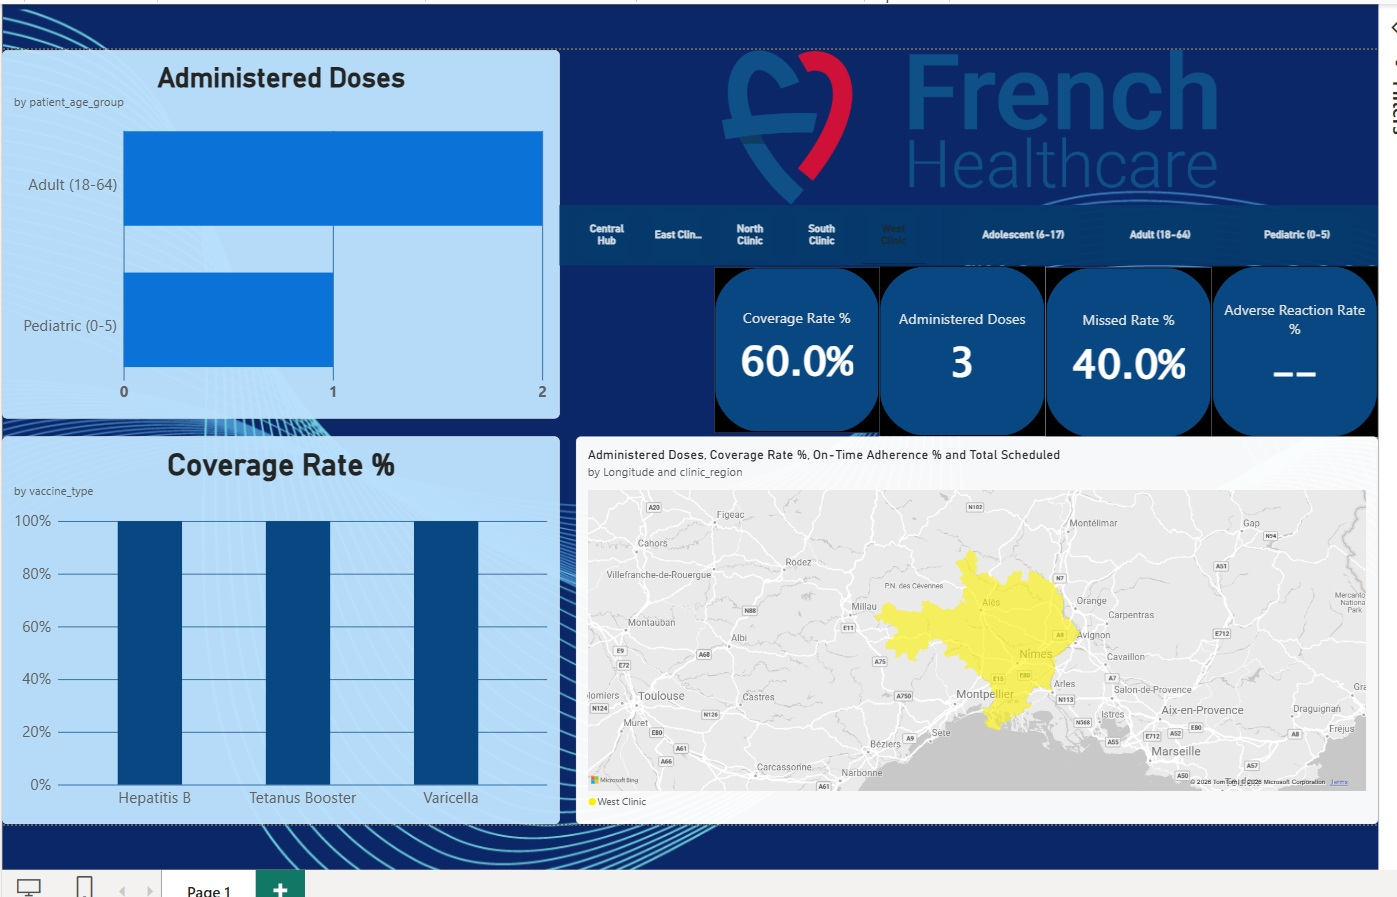

This screenshot's page, from the dashboard's own definition file:
{"tool":"powerbi","page":{"name":"Page 1","canvas":[1920,1080],"ordinal":0},"visuals":[{"type":"cardVisual","fields":{"Data":["_Measures.Coverage Rate %"]},"box":[994.2,303.5,230.2,230.2],"z":0},{"type":"cardVisual","fields":{"Data":["_Measures.Administered Doses"]},"box":[1224.4,301.7,232,237.2],"z":1},{"type":"cardVisual","fields":{"Data":["_Measures.Missed Rate %"]},"box":[1456.4,303.5,232,237.2],"z":2},{"type":"cardVisual","fields":{"Data":["_Measures.Adverse Reaction Rate %"]},"box":[1688.4,301.7,232,239],"z":3},{"type":"clusteredBarChart","fields":{"Category":["Fact_Vaccinations.patient_age_group"],"Y":["_Measures.Administered Doses"]},"box":[0,0,778,514.6],"z":4},{"type":"clusteredColumnChart","fields":{"Category":["Fact_Vaccinations.vaccine_type"],"Y":["_Measures.Coverage Rate %"]},"box":[0,539.3,778,541.3],"z":5},{"type":"filledMap","fields":{"Category":["Dim_Clinics.Longitude","Dim_Clinics.Latitude"],"Series":["Dim_Clinics.clinic_region"]},"box":[800.7,539.3,1119.7,541.3],"z":6},{"type":"advancedSlicerVisual","fields":{"Values":["Dim_Clinics.clinic_region"]},"box":[777.9,216.3,535.5,83.7],"z":7},{"type":"advancedSlicerVisual","fields":{"Values":["Fact_Vaccinations.patient_age_group"]},"box":[1313.4,216.3,607,83.7],"z":8},{"type":"image","box":[777.9,0,1142.4,216.3],"z":9}]}

Visuals, with their boxes in screenshot pixels (x1, y1, x2, y2):
cardVisual - _Measures.Coverage Rate %: {"left": 710, "top": 265, "right": 875, "bottom": 430}
cardVisual - _Measures.Administered Doses: {"left": 875, "top": 264, "right": 1041, "bottom": 434}
cardVisual - _Measures.Missed Rate %: {"left": 1041, "top": 265, "right": 1208, "bottom": 435}
cardVisual - _Measures.Adverse Reaction Rate %: {"left": 1208, "top": 264, "right": 1374, "bottom": 435}
clusteredBarChart - Fact_Vaccinations.patient_age_group x _Measures.Administered Doses: {"left": 0, "top": 47, "right": 555, "bottom": 417}
clusteredColumnChart - Fact_Vaccinations.vaccine_type x _Measures.Coverage Rate %: {"left": 0, "top": 434, "right": 555, "bottom": 823}
filledMap - Dim_Clinics.Longitude x Dim_Clinics.Latitude: {"left": 571, "top": 434, "right": 1374, "bottom": 823}
advancedSlicerVisual - Dim_Clinics.clinic_region: {"left": 555, "top": 202, "right": 939, "bottom": 263}
advancedSlicerVisual - Fact_Vaccinations.patient_age_group: {"left": 939, "top": 202, "right": 1374, "bottom": 263}
image: {"left": 555, "top": 47, "right": 1374, "bottom": 202}
